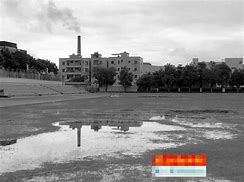smoke: (21, 2, 82, 36)
